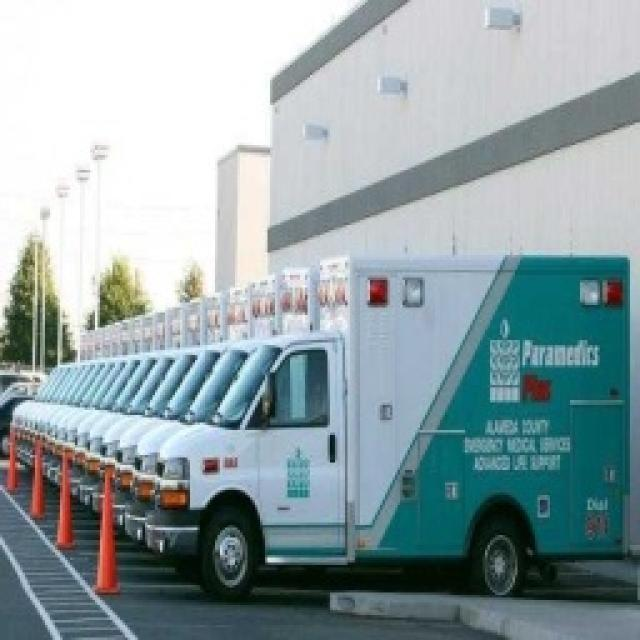emergency-vehicle: (156, 246, 630, 618)
